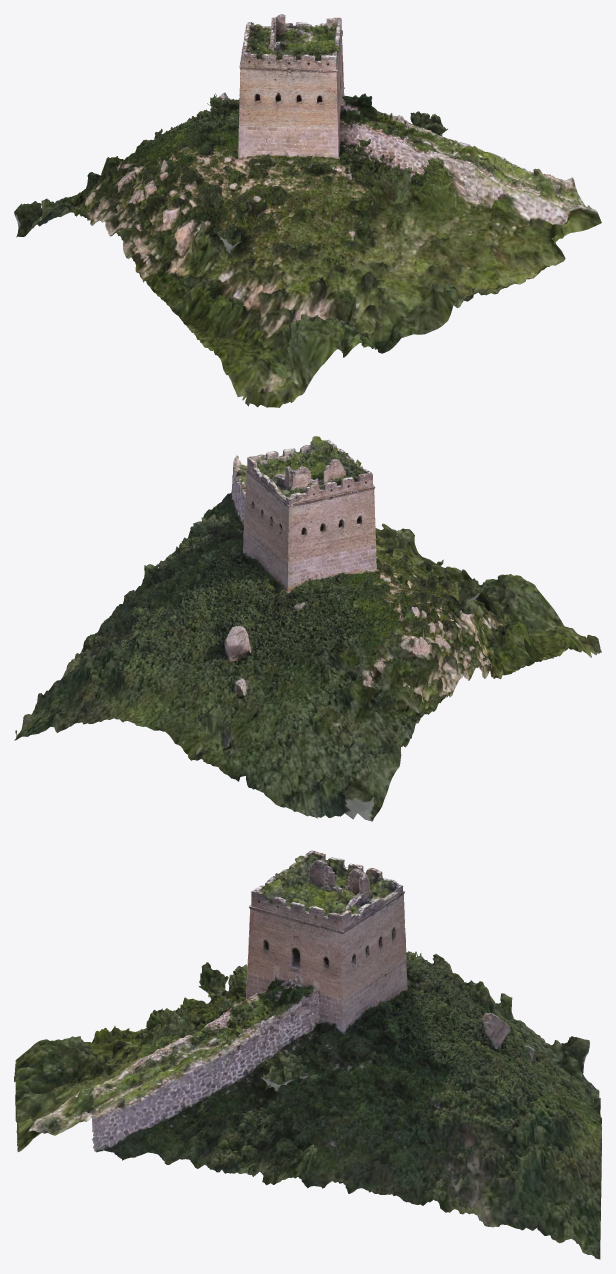
Rendered from grande-muraille-de-chine.glb.
3 renders of one model, top to bottom at view 1: azimuth 30°, elevation 25°; view 2: azimuth 150°, elevation 25°; view 3: azimuth 270°, elevation 25°, orthographic. The views are drawn at different scales.
Visible parts, largest first — view 1: DefaultName__0; view 2: DefaultName__0; view 3: DefaultName__0.
Boxes of the visible parts, <box> form: DefaultName__0: <box>14,14,601,407</box>; DefaultName__0: <box>14,436,601,821</box>; DefaultName__0: <box>14,850,601,1259</box>.
Bounding box in the file's own units: 0.8046 × 0.5429 × 0.9998.
1 material, 1 textured.
